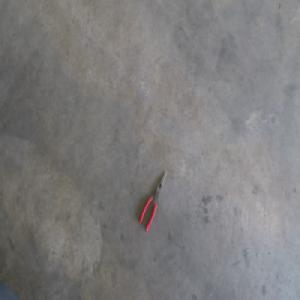Pliers: (138, 172, 167, 232)
